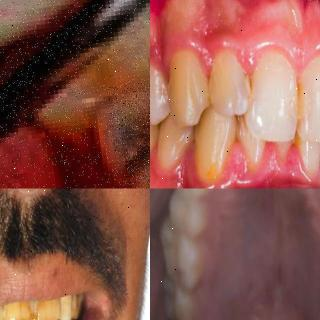Gum Swelling: (214, 142, 260, 188), (180, 33, 228, 77), (228, 33, 278, 75), (164, 146, 212, 188), (280, 38, 320, 80), (150, 38, 181, 82), (285, 146, 313, 185), (258, 144, 285, 182)
cavities: (90, 76, 150, 188), (238, 67, 262, 104), (168, 255, 182, 285)
stains: (30, 291, 59, 320), (5, 297, 32, 320)
